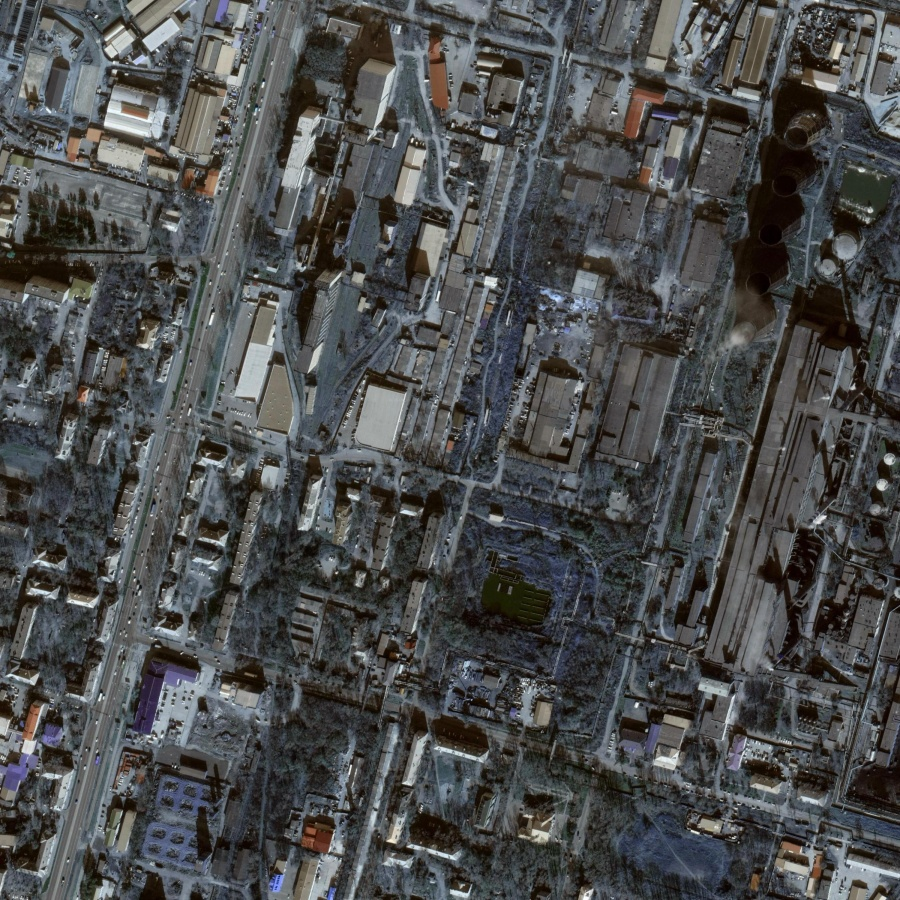PowerPlant: (700, 61, 870, 400)
